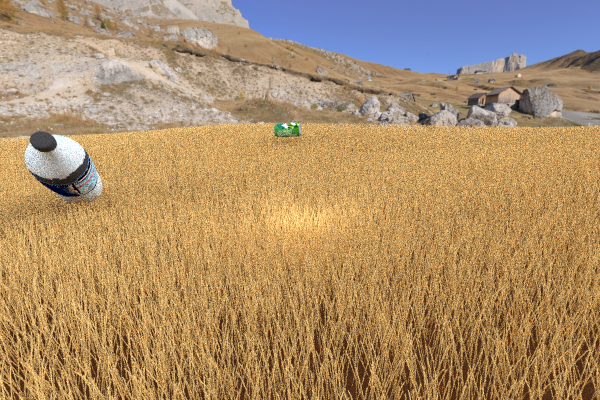bottle: (24, 131, 102, 204)
can: (273, 122, 301, 137)
